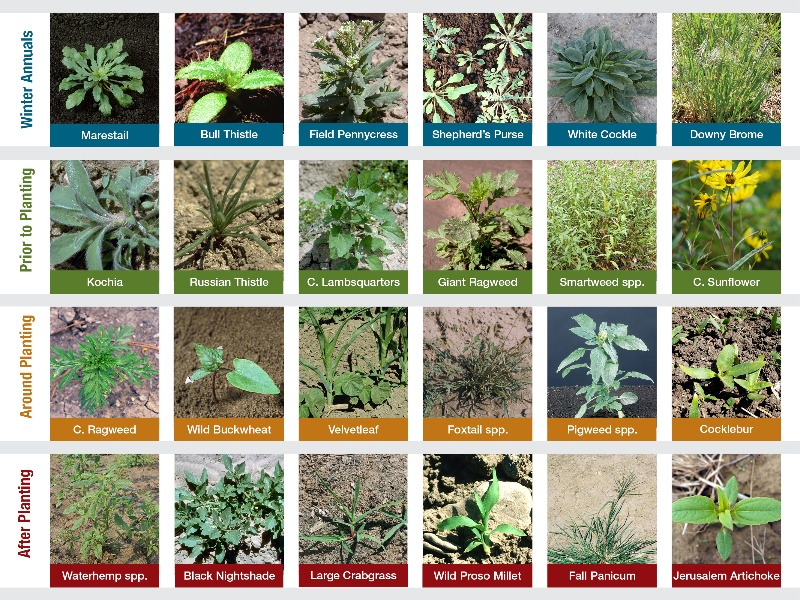weed: (53, 162, 158, 262), (549, 26, 654, 118), (429, 172, 530, 265), (307, 24, 399, 116), (308, 174, 403, 262), (56, 330, 159, 408), (177, 45, 279, 122), (56, 41, 148, 115), (677, 474, 779, 540), (187, 470, 275, 543), (435, 339, 526, 407), (186, 344, 287, 400), (448, 480, 522, 552), (577, 360, 650, 414), (565, 309, 648, 355), (686, 349, 760, 388), (328, 364, 397, 401), (425, 66, 472, 120), (477, 68, 528, 117), (481, 14, 532, 62), (423, 16, 461, 54), (299, 385, 323, 415)
